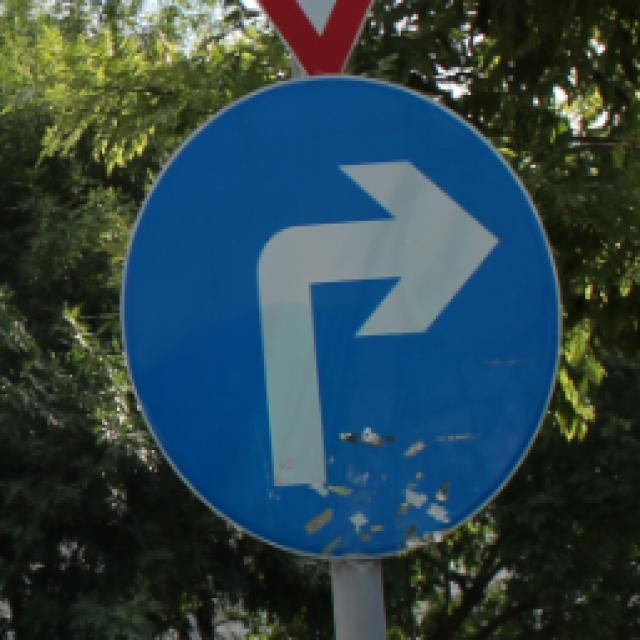Right: (116, 70, 564, 570)
